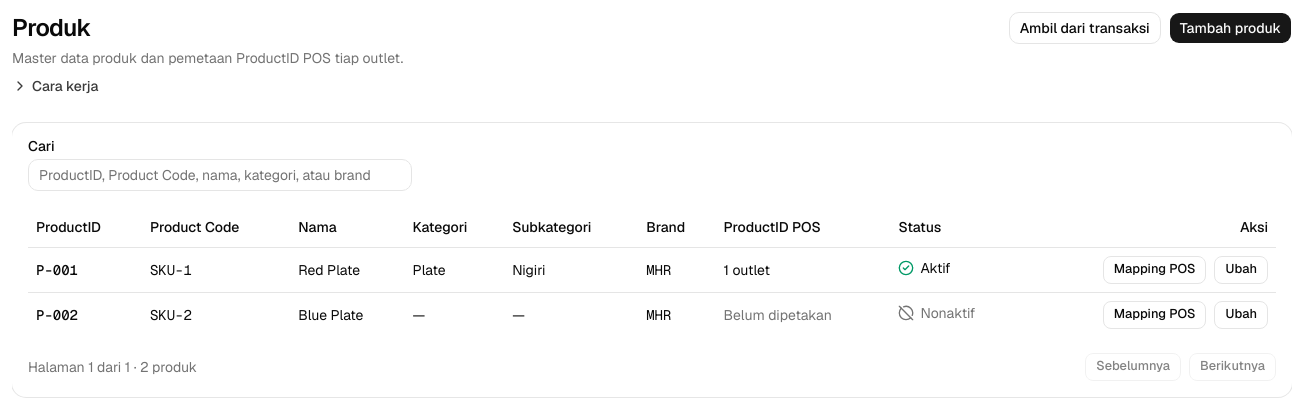
Test: ProductsView — daftar › pencarian dikirim ke server
Check: the text "Red Plate" is shown, box x1=290 y1=247 x2=405 y2=292
Type "blue" into the field labelled "Cari".
click(220, 175); type("blue")  # box x1=28 y1=159 x2=412 y2=191
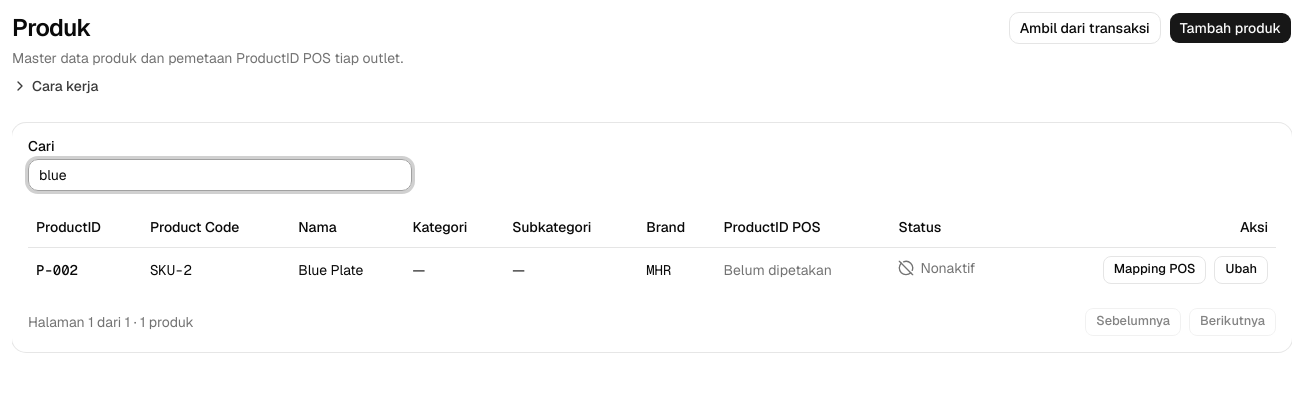
Check: the text "Blue Plate" is shown, box x1=290 y1=247 x2=405 y2=292
Check: the text "Red Plate" is gone
